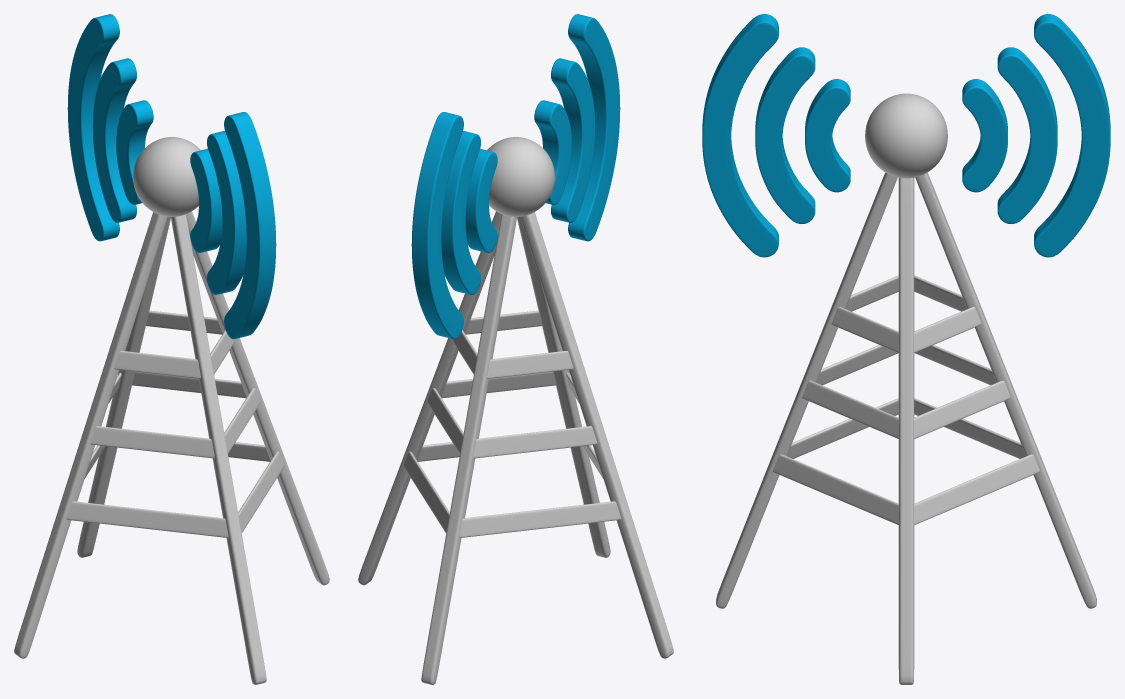
The model's file is NetworkTower.glb.
3 renders of one model, left to right at view 1: azimuth 30°, elevation 25°; view 2: azimuth 150°, elevation 25°; view 3: azimuth 270°, elevation 25°, orthographic. The views are drawn at different scales.
Parts seen in each view (by area): view 1: NetworkTower.001; view 2: NetworkTower.001; view 3: NetworkTower.001.
Part boxes in pixels (x1,y1,x2,y2): NetworkTower.001: [14, 14, 329, 684]; NetworkTower.001: [358, 14, 673, 684]; NetworkTower.001: [702, 14, 1110, 684].
Bounding box in the file's own units: 3.22 × 5.48 × 3.45.
